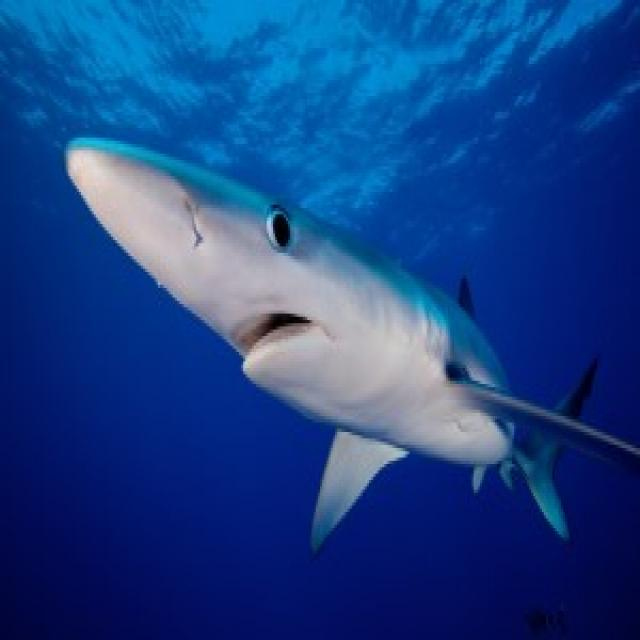Shark: (66, 112, 639, 573)
